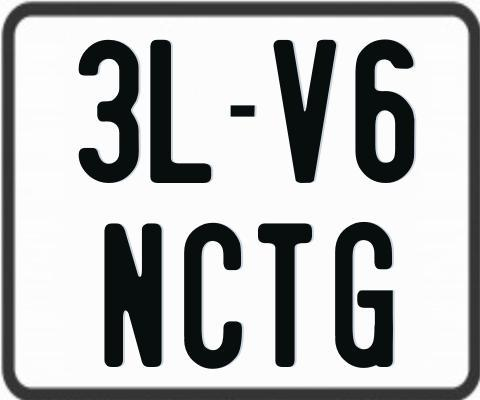3: (77, 37, 143, 186)
6: (353, 38, 412, 182)
C: (183, 221, 245, 373)
G: (334, 222, 397, 370)
L: (147, 39, 214, 185)
N: (103, 222, 163, 371)
T: (258, 223, 314, 367)
V: (273, 37, 335, 183)
